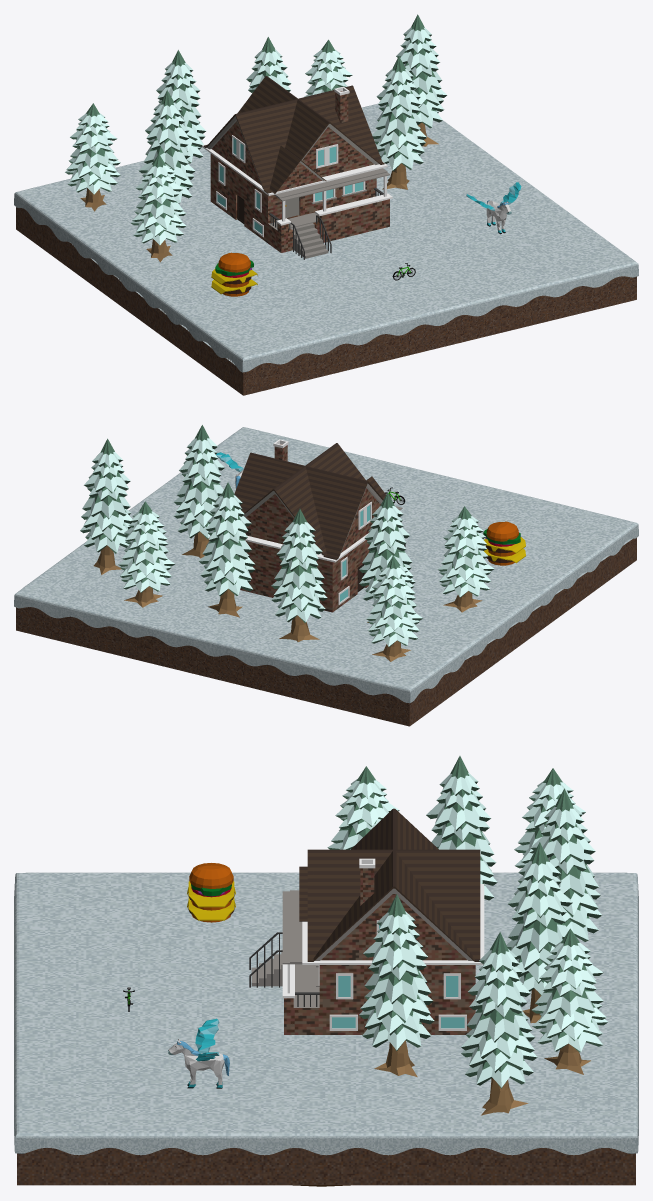
The picture shows the model from 3 angles, top to bottom: view 1: azimuth 30°, elevation 25°; view 2: azimuth 150°, elevation 25°; view 3: azimuth 270°, elevation 25°; orthographic projection. The views are drawn at different scales.
Visible parts, largest first — view 1: Cube.003, Cube.117, OBJRANDOM_HAMBURGER, ANIMAL_PEGASO; view 2: Cube.003, Cube.117, OBJRANDOM_HAMBURGER; view 3: Cube.003, Cube.117, OBJRANDOM_HAMBURGER, ANIMAL_PEGASO.
Boxes of the visible parts, x1,y1,x2,y2 form: Cube.003: (14,14,638,395); Cube.117: (202,76,392,259); OBJRANDOM_HAMBURGER: (211,252,257,296); ANIMAL_PEGASO: (466,182,521,234); Cube.003: (14,425,638,726); Cube.117: (234,439,405,612); OBJRANDOM_HAMBURGER: (483,521,525,565); Cube.003: (14,756,638,1185); Cube.117: (249,808,484,1034); OBJRANDOM_HAMBURGER: (187,863,235,922); ANIMAL_PEGASO: (168,1018,229,1088).
Bounding box in the file's own units: 4040 × 1758 × 4040.
37 materials, 4 textured.
